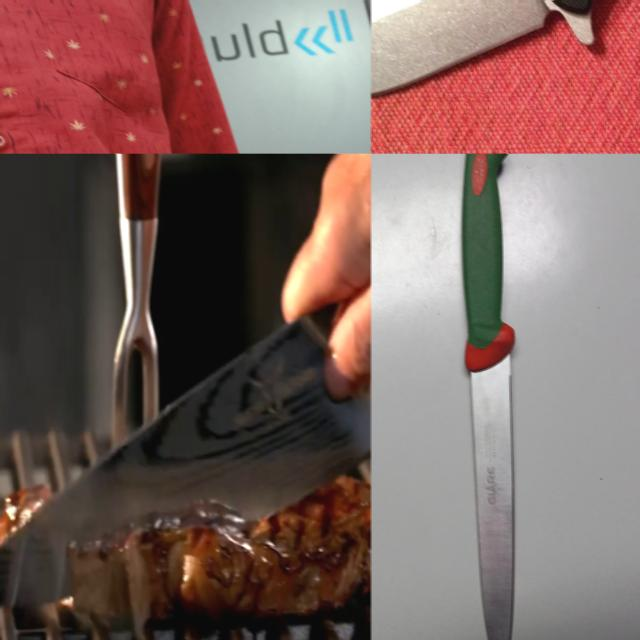Knife: (0, 313, 371, 607), (462, 153, 515, 640)
Knife_Handle: (0, 153, 371, 608)
